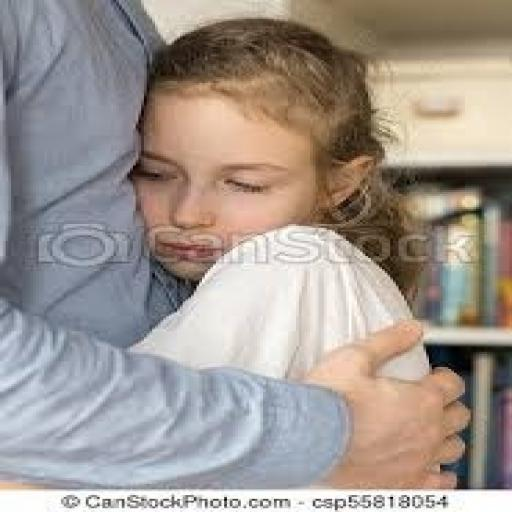hugging: (0, 3, 473, 487)
